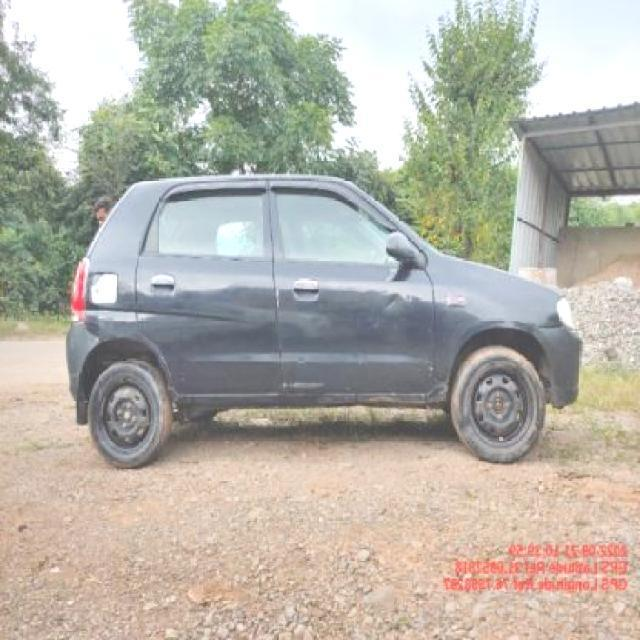minor: (320, 295, 415, 323)
